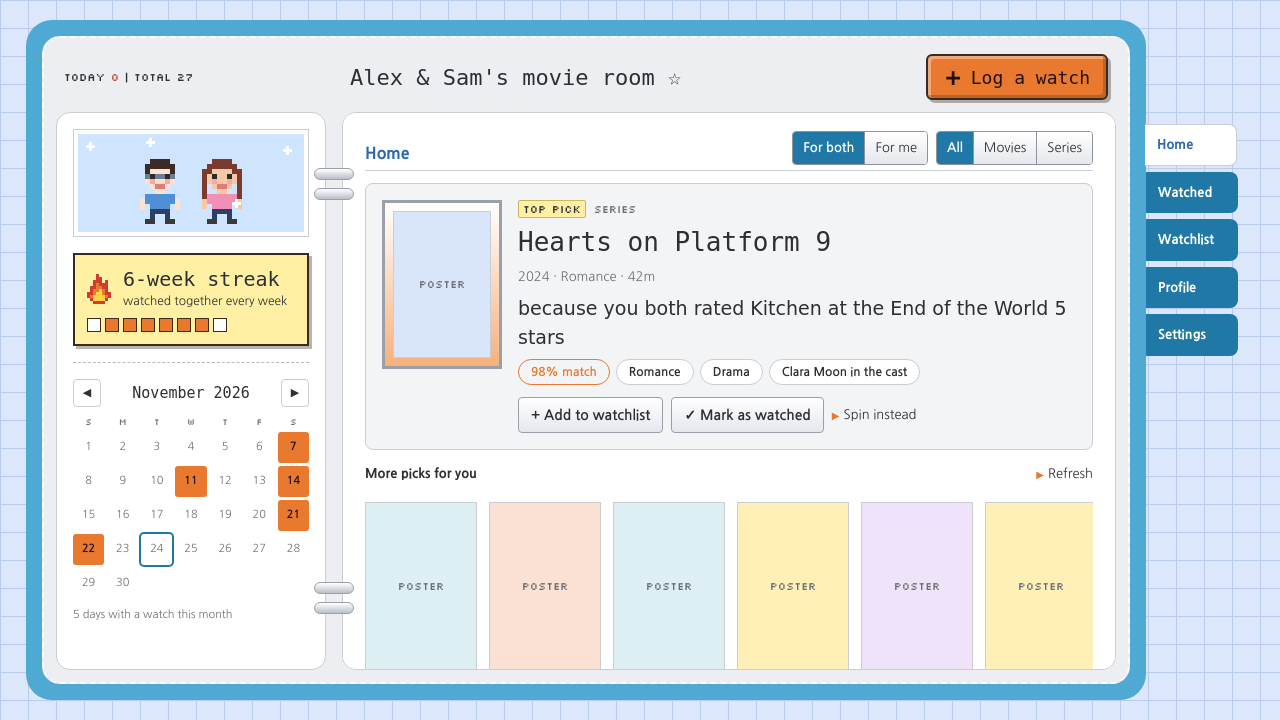
Test: Log a watch › closes on Escape and returns focus
Click the button "+ Log a watch".
click(1017, 77)  # box x1=926 y1=54 x2=1108 y2=100
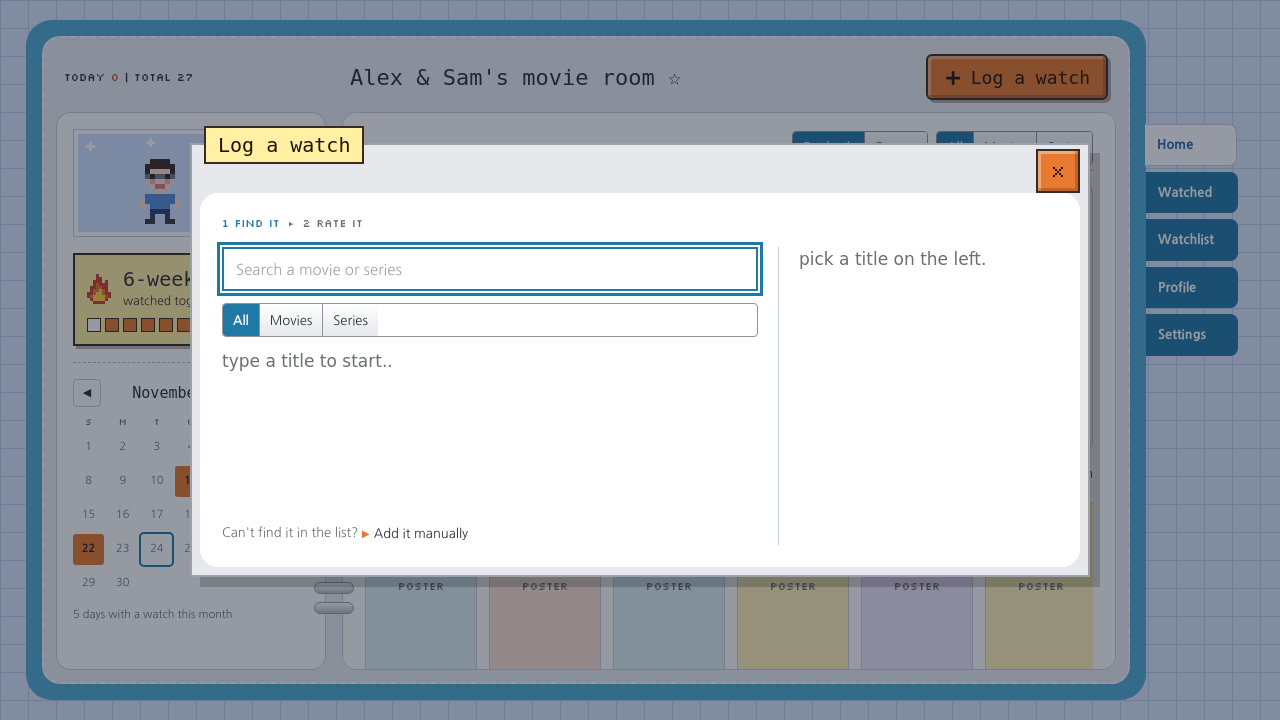
Expected: the dialog is shown, x1=190 y1=143 x2=1090 y2=577
Press Escape
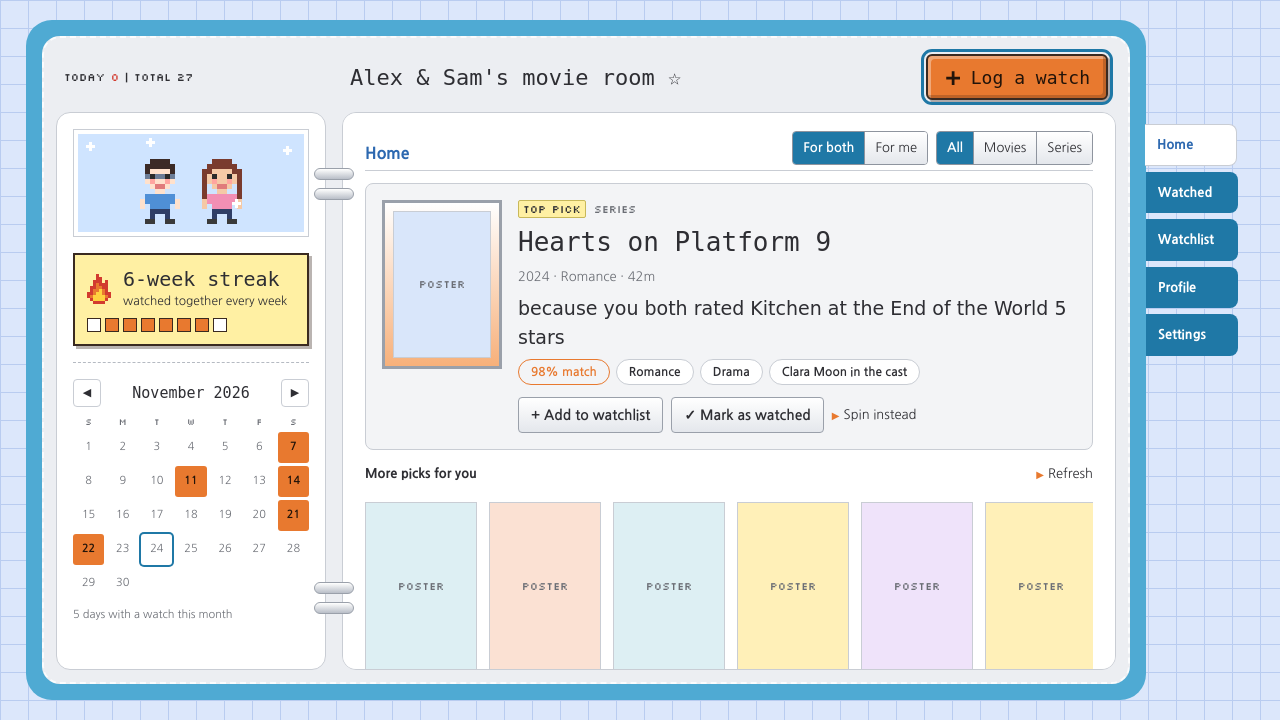
Expected: the dialog is gone
